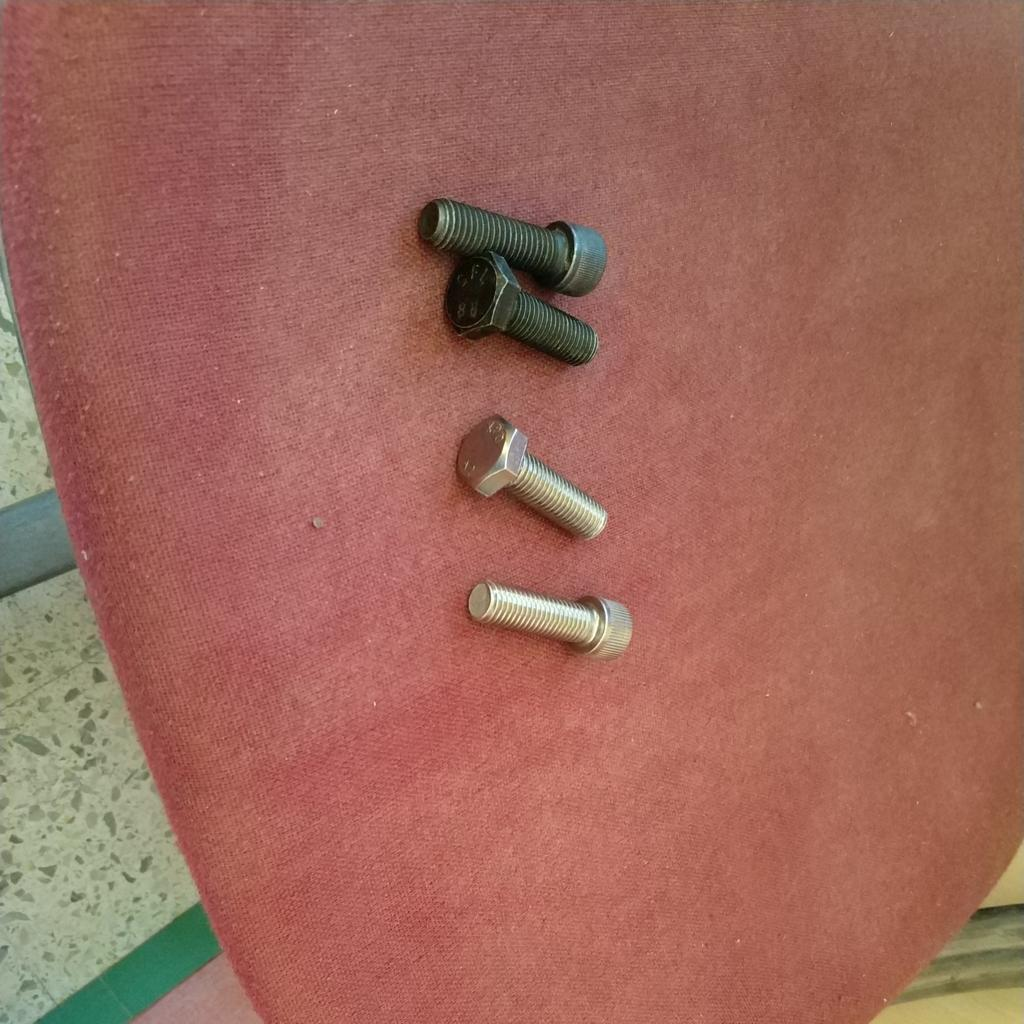screwtype1black: (415, 194, 608, 302)
screwtype1silver: (467, 576, 633, 666)
screwtype2black: (442, 250, 598, 378)
screwtype2silver: (452, 410, 609, 540)
